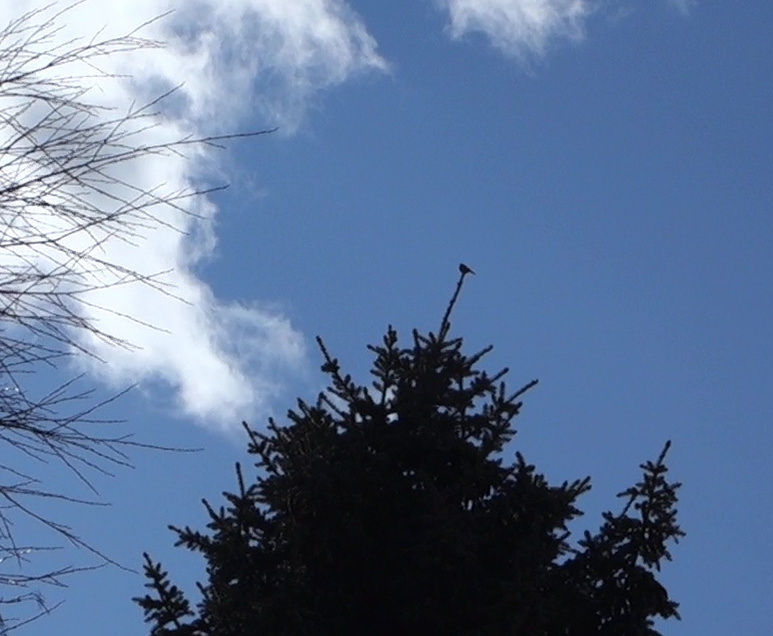Periparus_ater: (458, 262, 476, 275)
